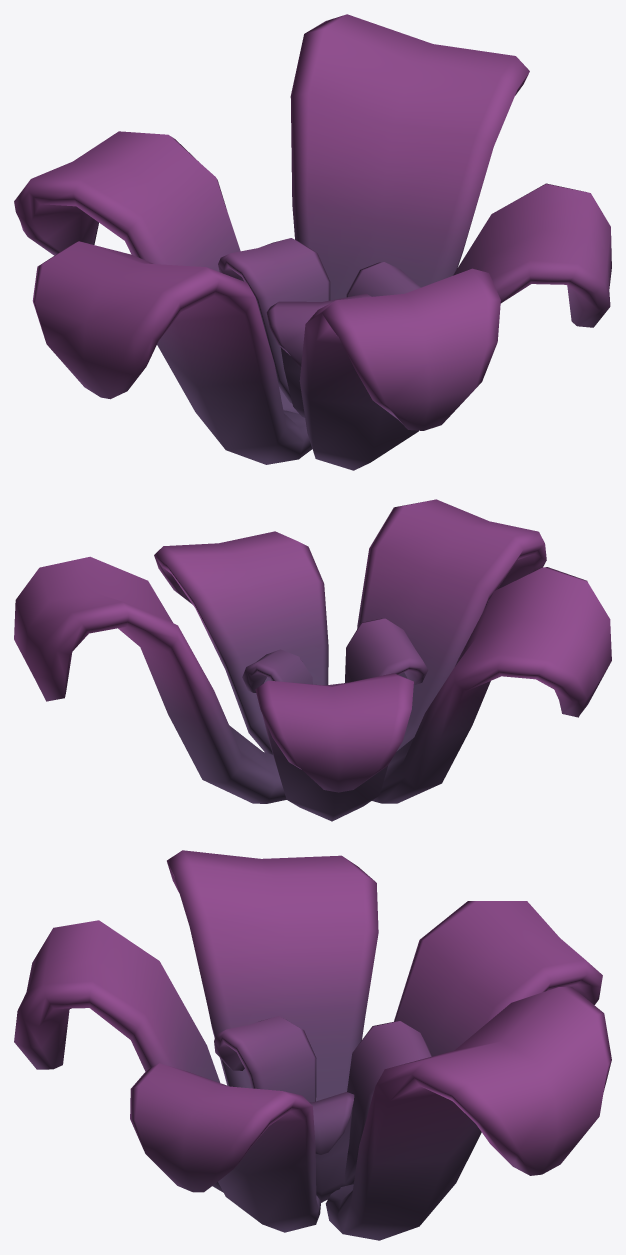
File: Plants_008.fbx
The picture shows the model from 3 angles, top to bottom: view 1: azimuth 30°, elevation 25°; view 2: azimuth 150°, elevation 25°; view 3: azimuth 270°, elevation 25°; orthographic projection. The views are drawn at different scales.
Visible parts, largest first — view 1: Plants.008; view 2: Plants.008; view 3: Plants.008.
Part boxes in pixels (<box>): Plants.008: <box>14,14,611,470</box>; Plants.008: <box>14,499,611,821</box>; Plants.008: <box>14,850,611,1240</box>.
Bounding box in the file's own units: 674 × 329 × 631.
